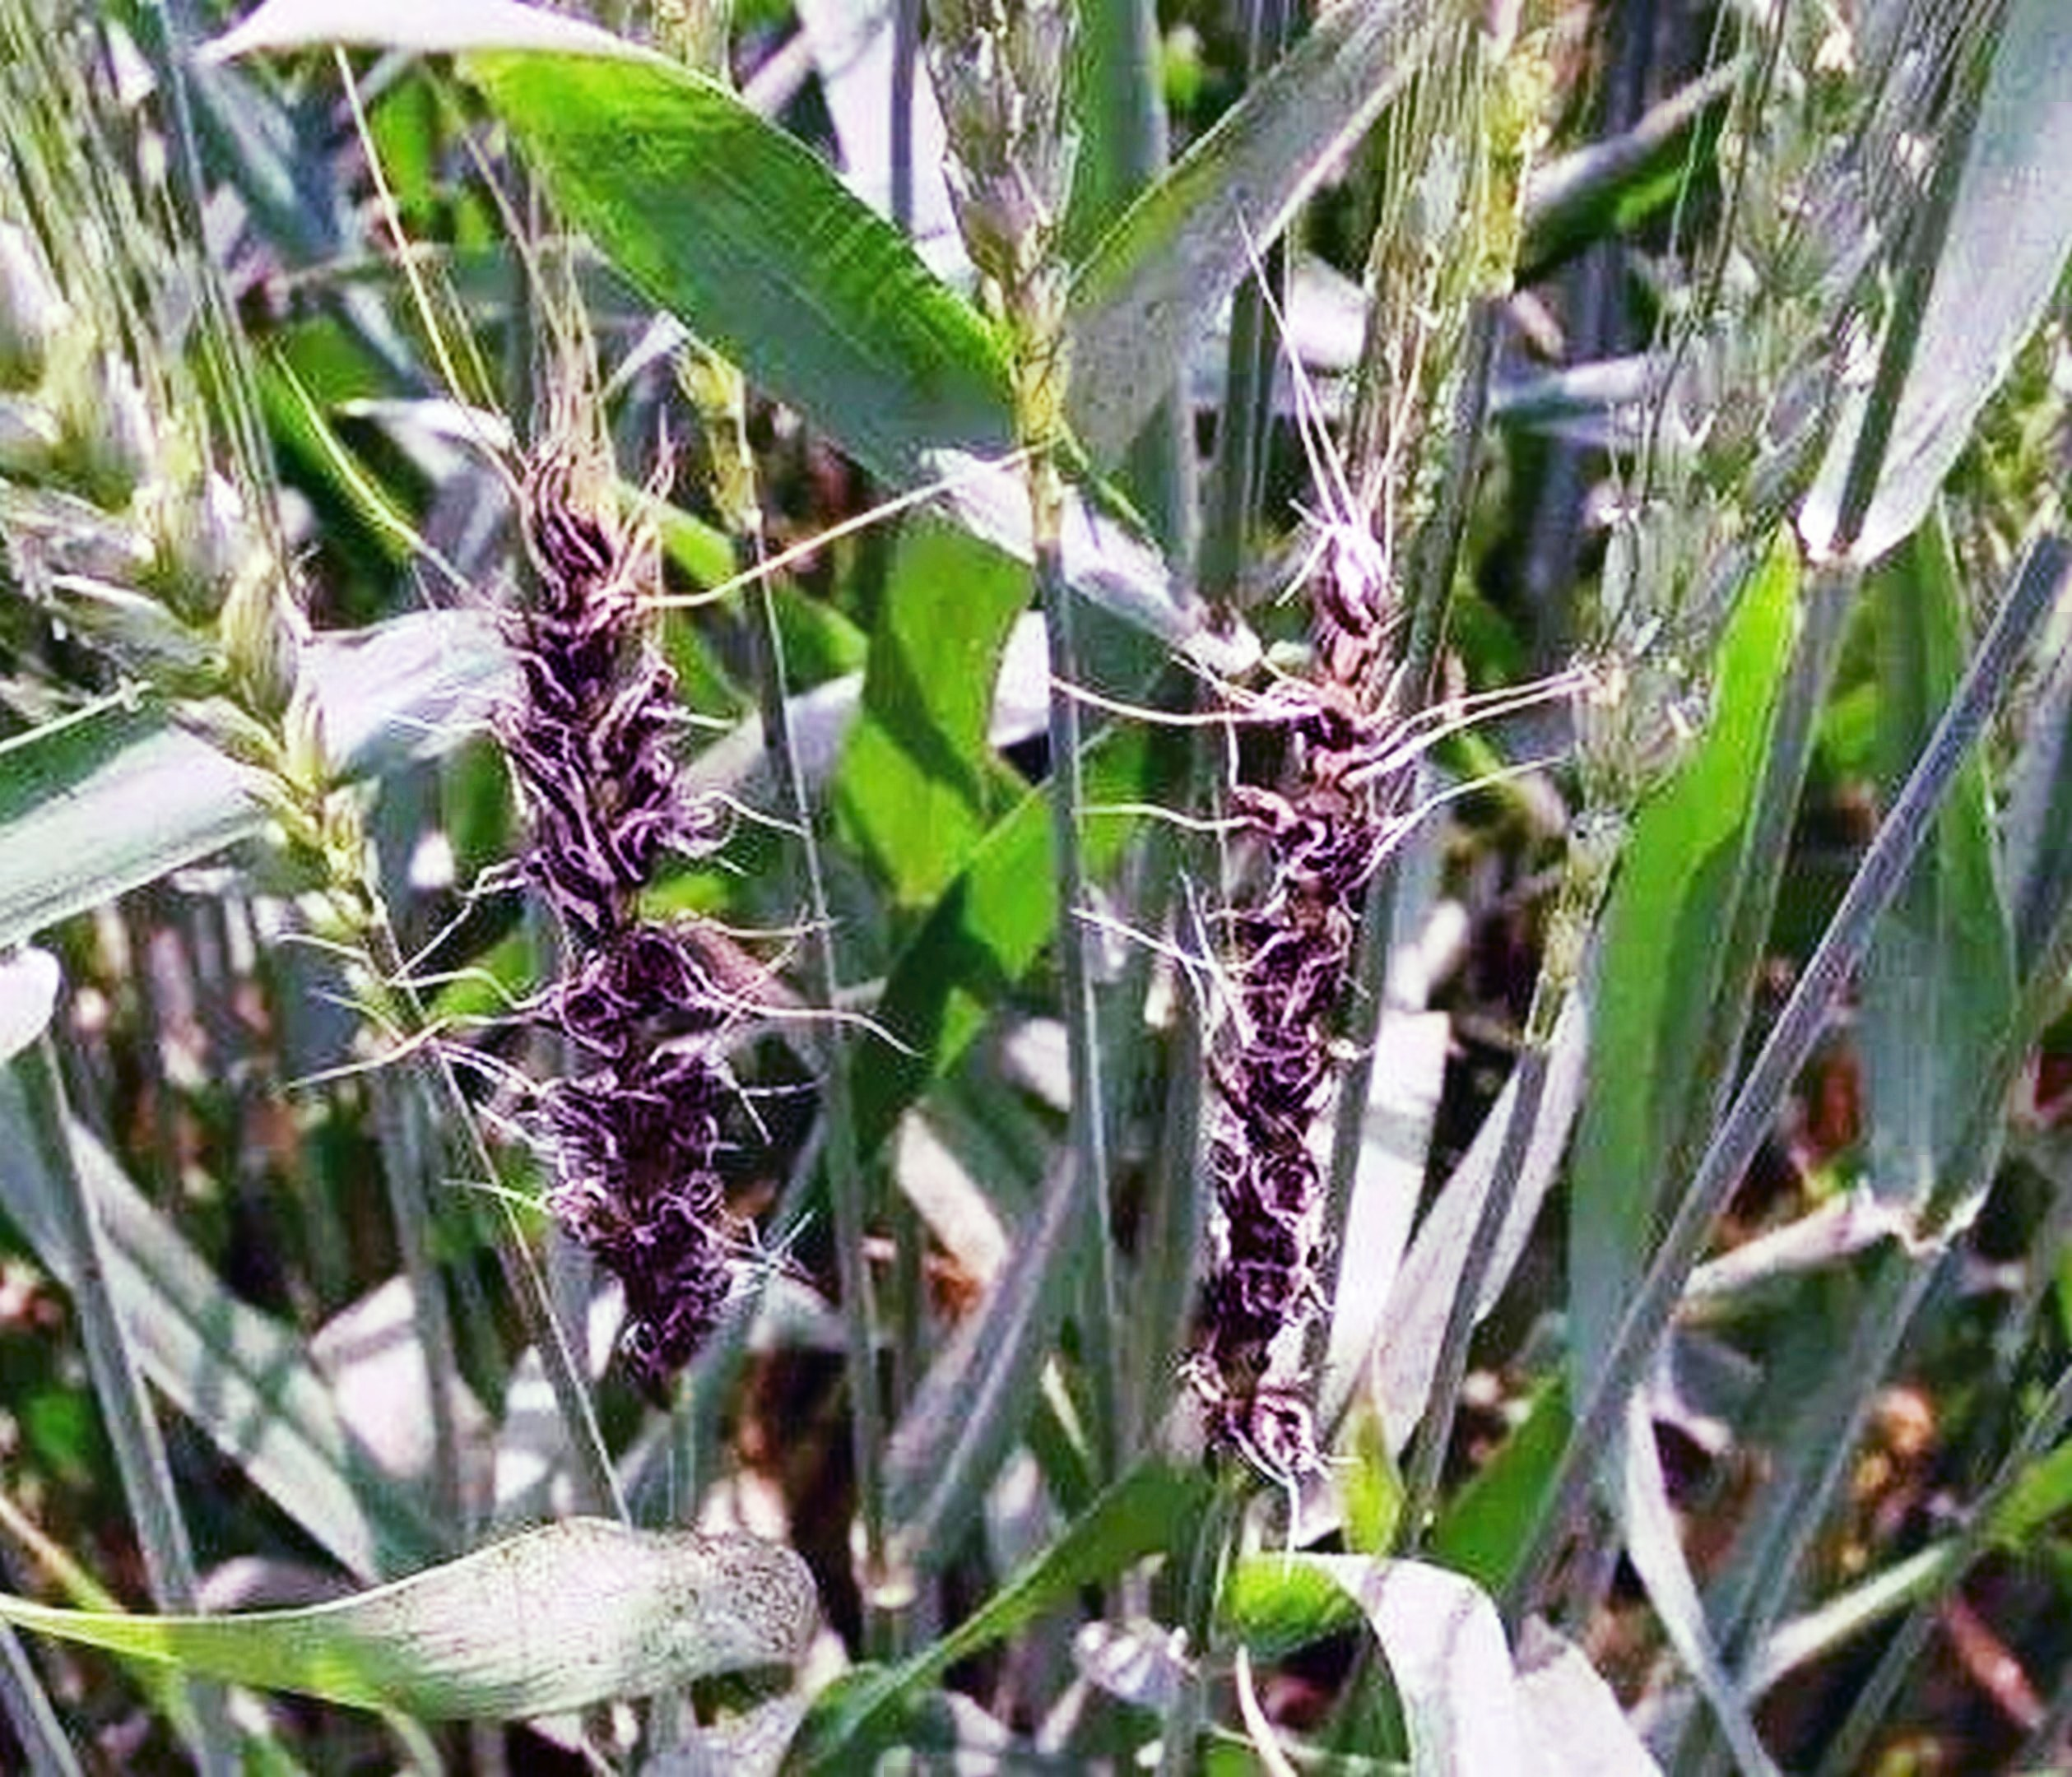Wheat Loose Smut: (1154, 505, 1452, 1474), (497, 456, 773, 1360)
